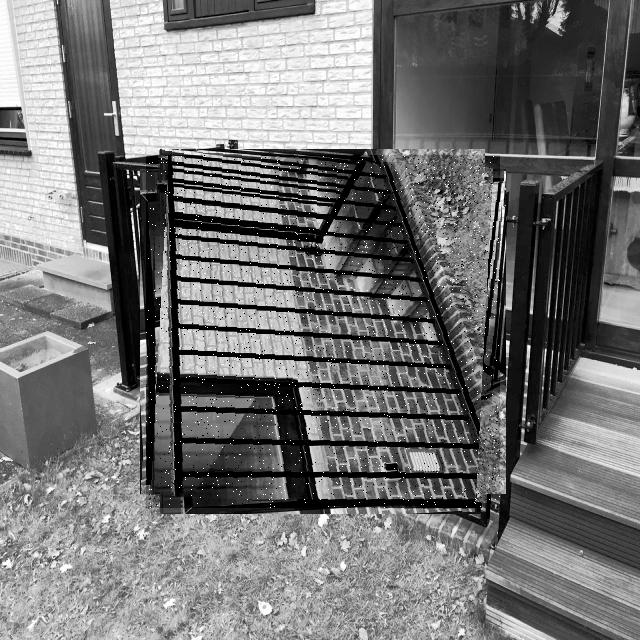fences: (146, 155, 500, 508)
